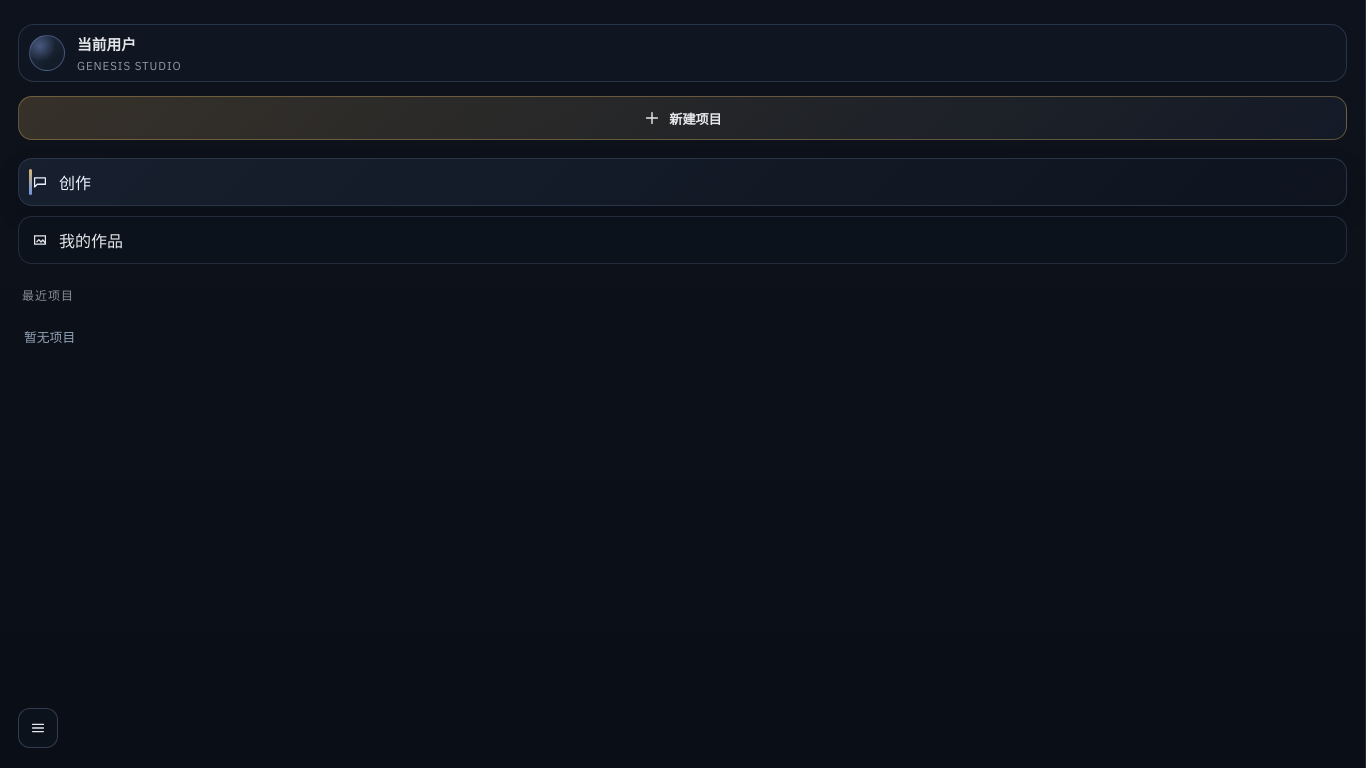
Test: AppSidebar › opens a custom replace-draft dialog instead of a system confirm for a non-empty draft
The image size is (1366, 768).
Click the button "新建项目".
click(682, 118)  # box [18, 96, 1347, 140]
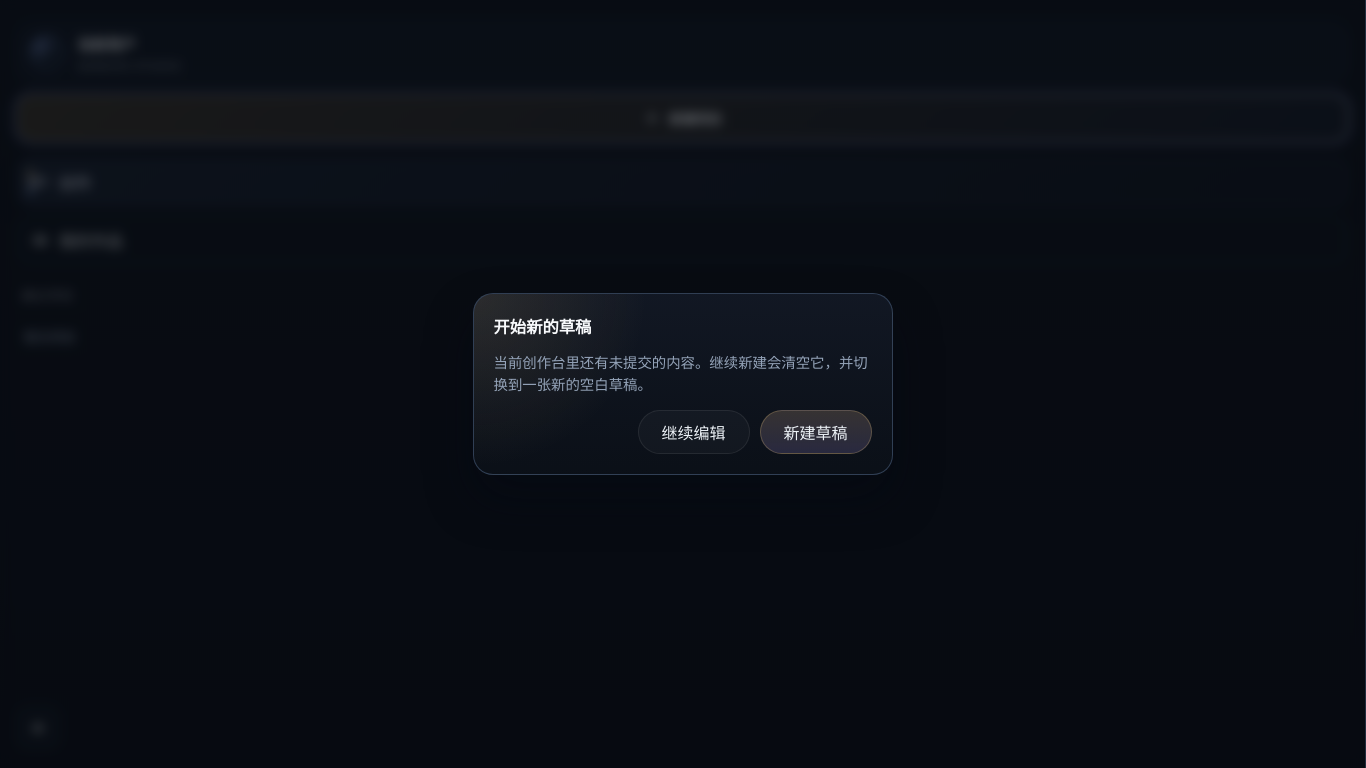
expect the dialog "开始新的草稿" is shown: met
Click the button "新建草稿".
click(816, 432)  # box [760, 410, 872, 454]
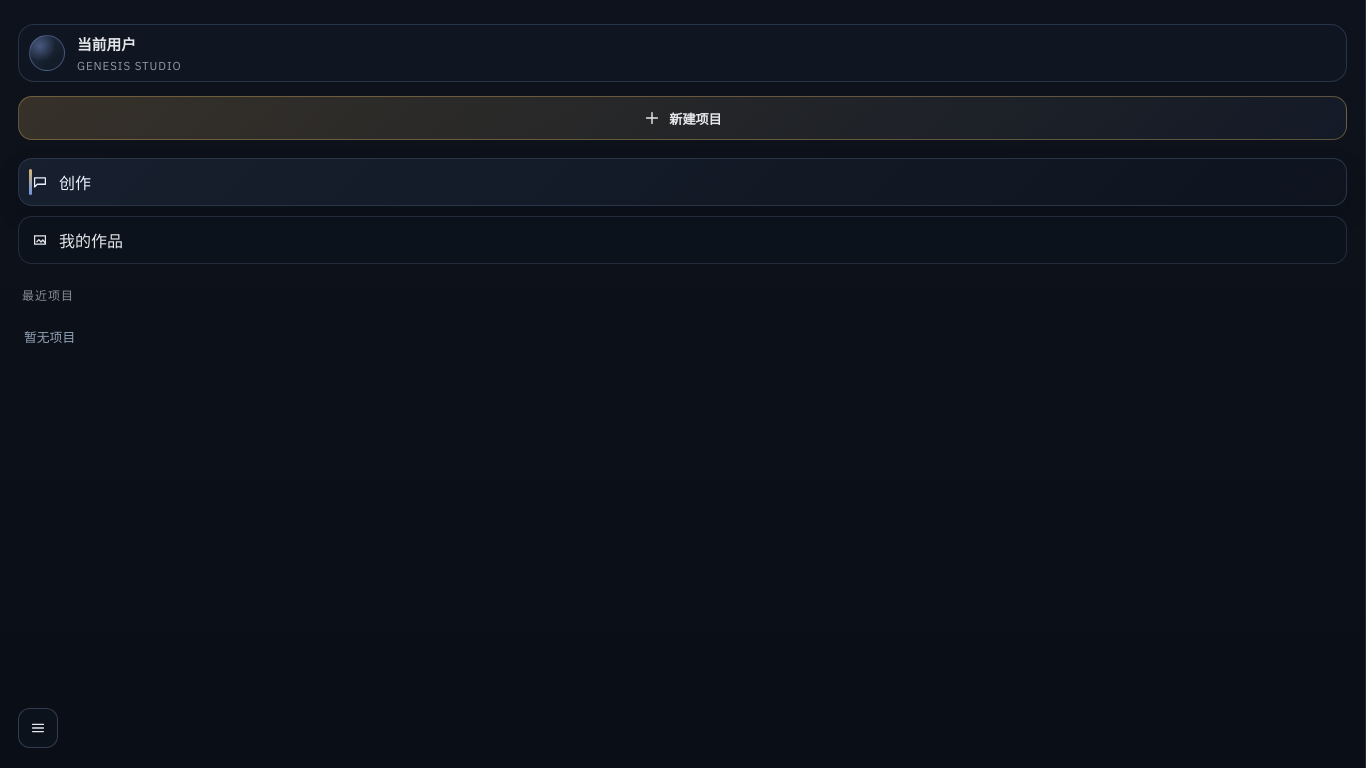
expect the text "开始新的草稿" is gone: met
